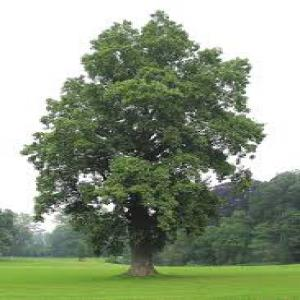Tree: (13, 11, 266, 276)
